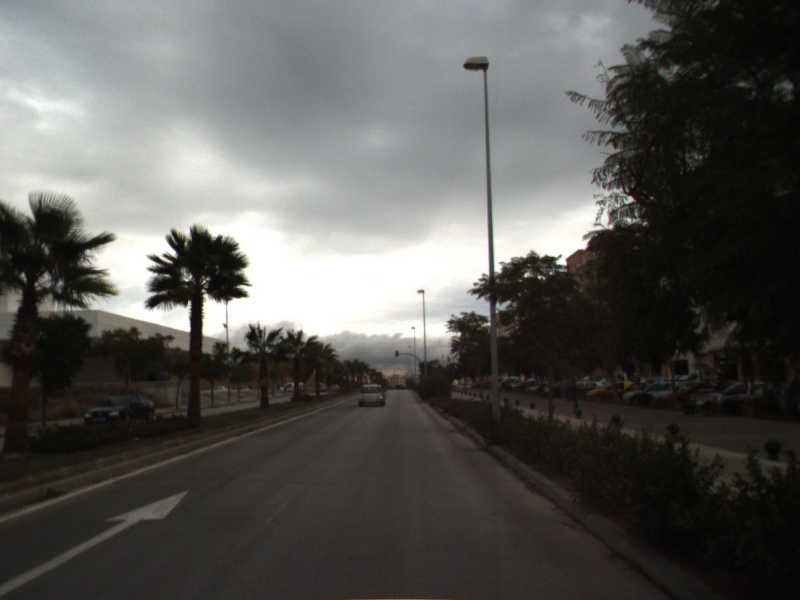STRAIGHT: (1, 486, 193, 597)
